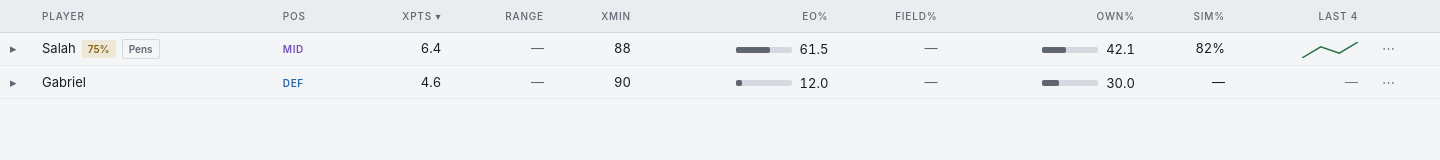
SquadTable › says so when a row has no saved breakdown
Click the button named "expand Salah". click: (13, 49)
box: [10, 39, 16, 58]
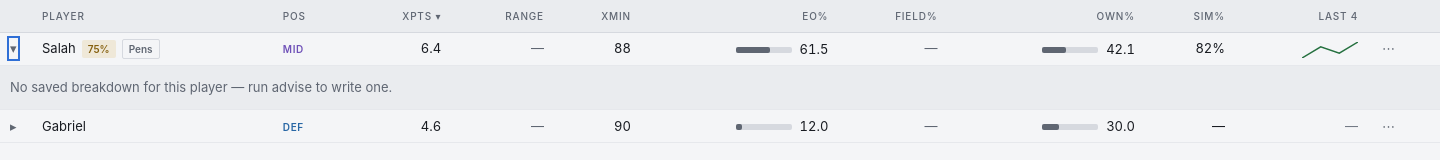
Now the text "No saved breakdown" is shown, box [10, 79, 392, 95]
